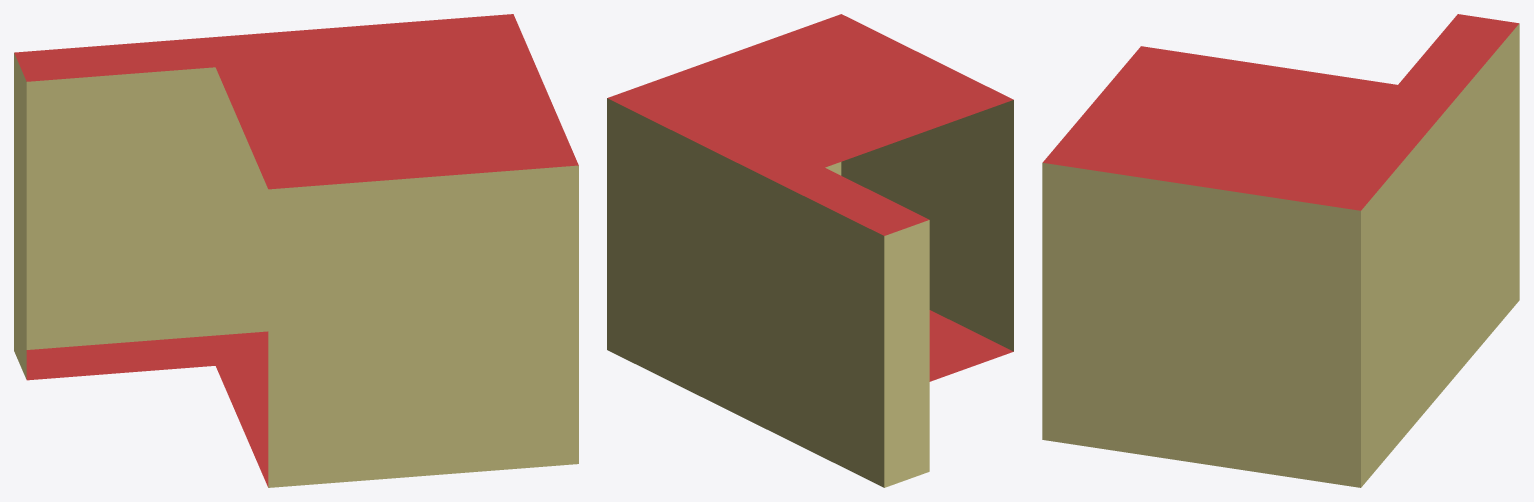
3 renders of one model, left to right at view 1: azimuth 30°, elevation 25°; view 2: azimuth 150°, elevation 25°; view 3: azimuth 270°, elevation 25°, orthographic. The views are drawn at different scales.
Bounding box in the file's own units: 9.52 × 9.75 × 6.25.
